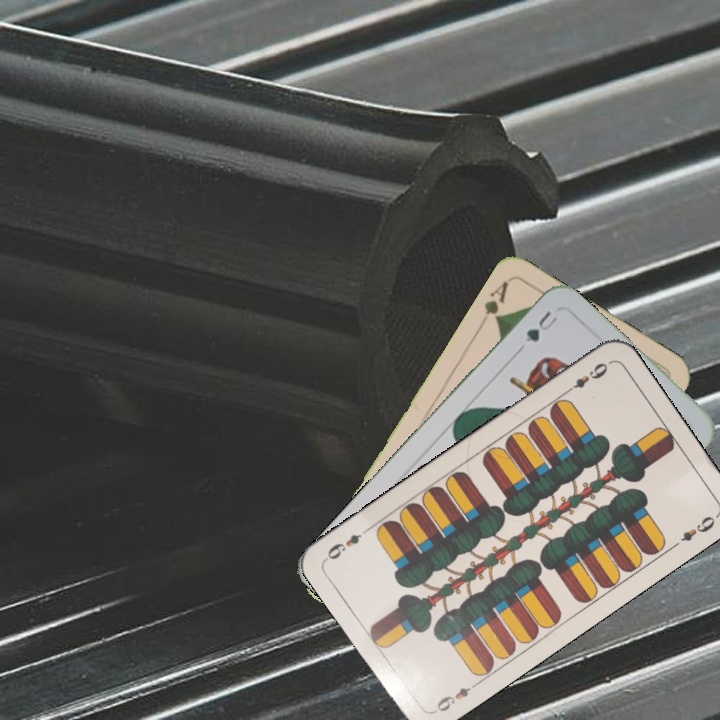E9: (429, 678, 482, 716), (561, 358, 611, 397)
GA: (480, 276, 512, 326)
GU: (521, 306, 561, 348)
